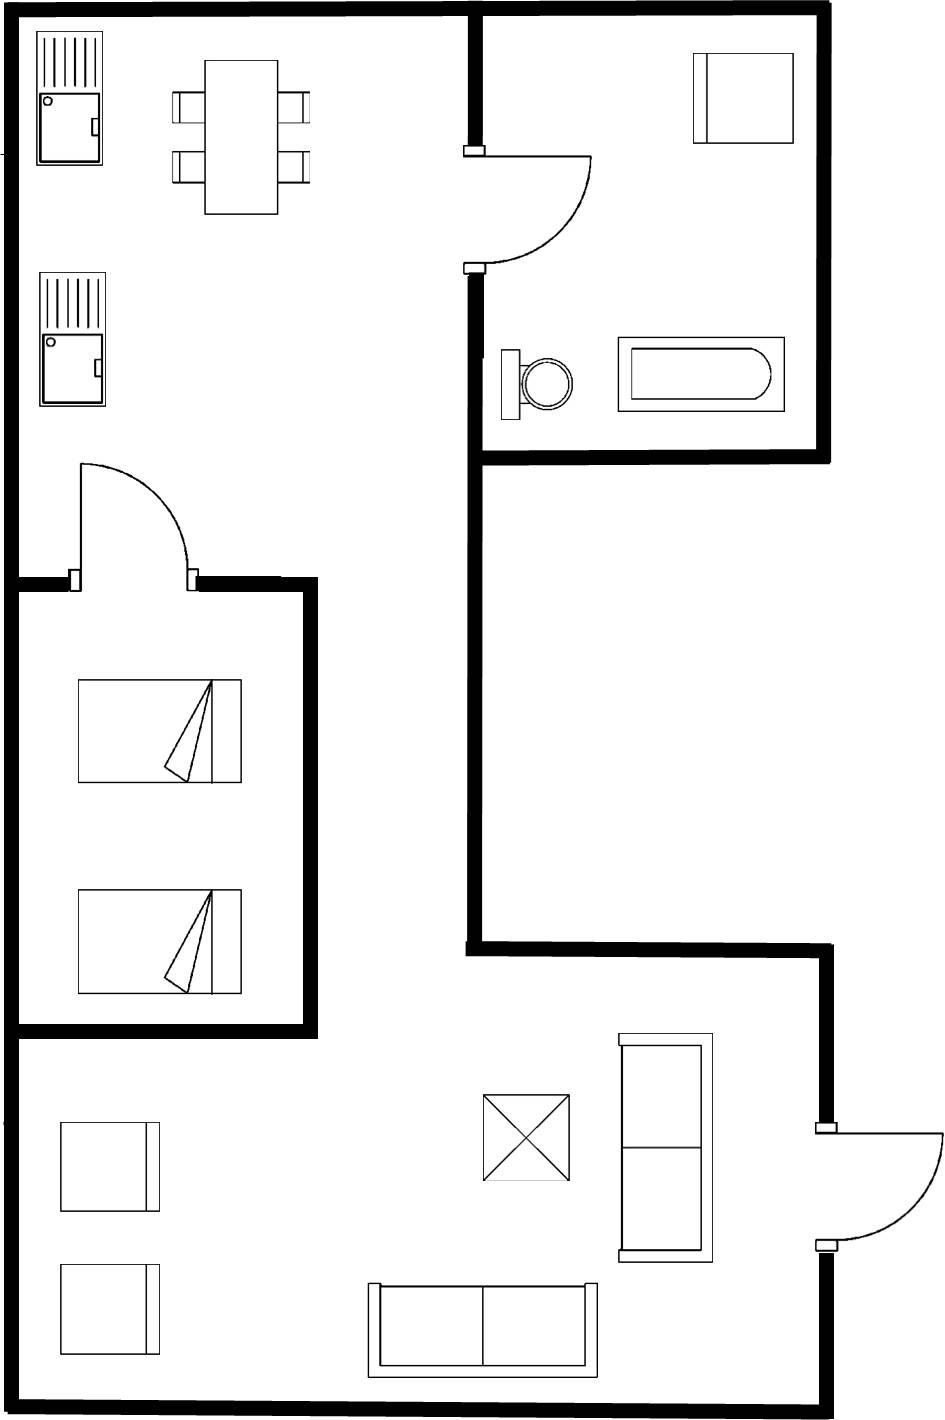bed: (72, 882, 249, 1004), (70, 674, 249, 790)
coffee_table: (476, 1085, 577, 1187)
dining_table: (162, 50, 323, 225)
large_sink: (490, 342, 580, 432)
large_sofa: (609, 1025, 722, 1272), (360, 1276, 606, 1385)
sink: (30, 267, 116, 414), (30, 25, 112, 178)
small_sofa: (683, 43, 799, 154), (51, 1115, 169, 1222), (52, 1257, 167, 1365)
tub: (608, 331, 795, 419)
